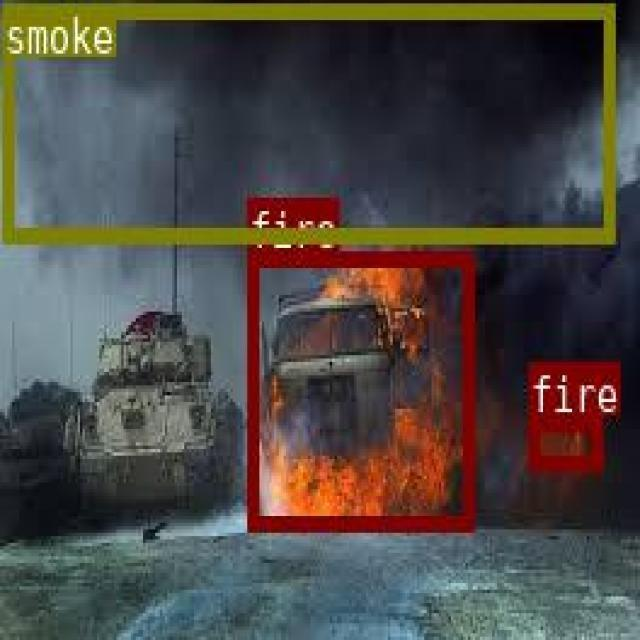fire: (246, 251, 473, 529), (528, 415, 599, 469)
smoke: (1, 2, 611, 238)
